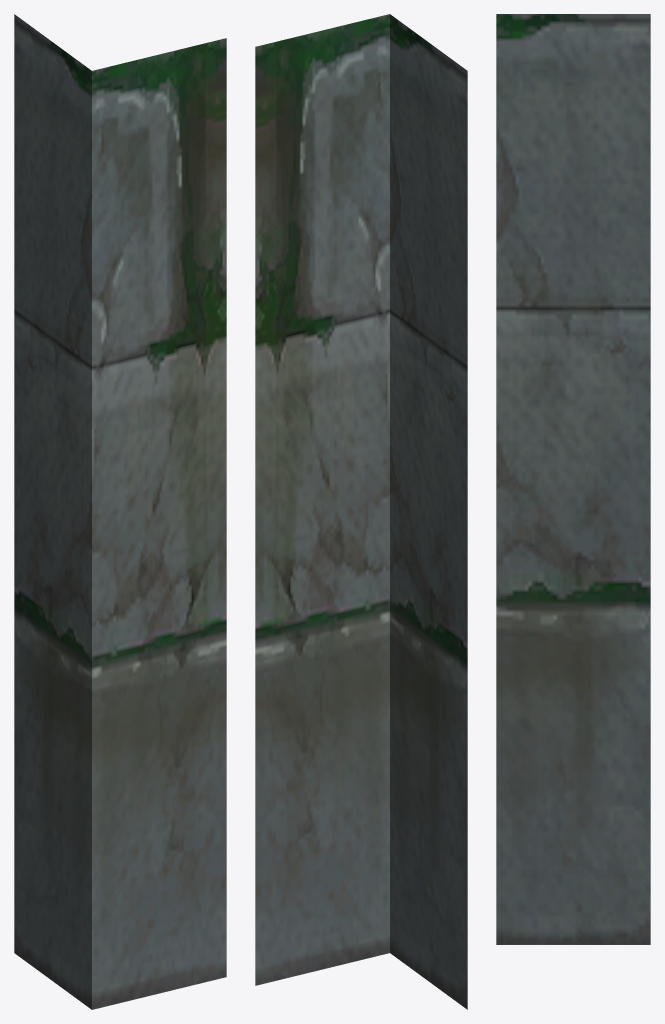
Rendered from stemple_half_convex_02.fbx.
The picture shows the model from 3 angles, left to right: view 1: azimuth 30°, elevation 25°; view 2: azimuth 210°, elevation 25°; view 3: azimuth 270°, elevation 25°; orthographic projection.
Visible parts, largest first — view 1: obj0.206; view 2: obj0.206; view 3: obj0.206.
Part boxes in pixels (left/top/right/bottom): obj0.206: left=14, top=14, right=226, bottom=1009; obj0.206: left=255, top=14, right=467, bottom=1009; obj0.206: left=496, top=14, right=650, bottom=944.
Bounding box in the file's own units: 0.4128 × 2.75 × 0.4127.
